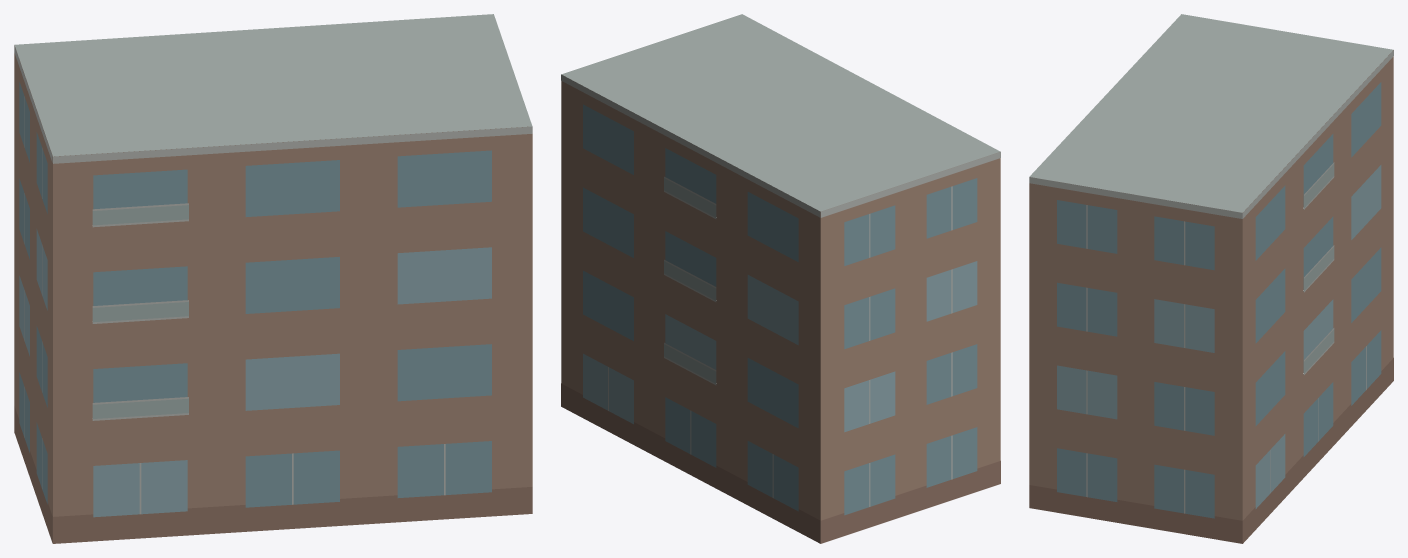
File: survey-upis-32522252.glb
3 renders of one model, left to right at view 1: azimuth 30°, elevation 25°; view 2: azimuth 150°, elevation 25°; view 3: azimuth 270°, elevation 25°, orthographic. The views are drawn at different scales.
Parts seen in each view (by area): view 1: survey-upis-32522252.tmp; view 2: survey-upis-32522252.tmp; view 3: survey-upis-32522252.tmp.
Boxes of the visible parts, box(x1,y1,x2,y2) form: survey-upis-32522252.tmp: box(14, 14, 532, 543); survey-upis-32522252.tmp: box(561, 14, 1000, 543); survey-upis-32522252.tmp: box(1029, 14, 1393, 543).
Size of the model in its own units: 16.56 by 12.85 by 12.83.
